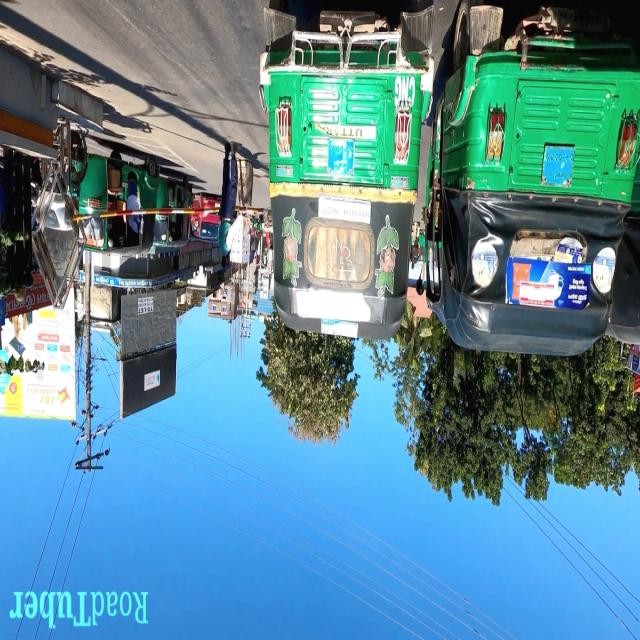red: (190, 191, 222, 249)
